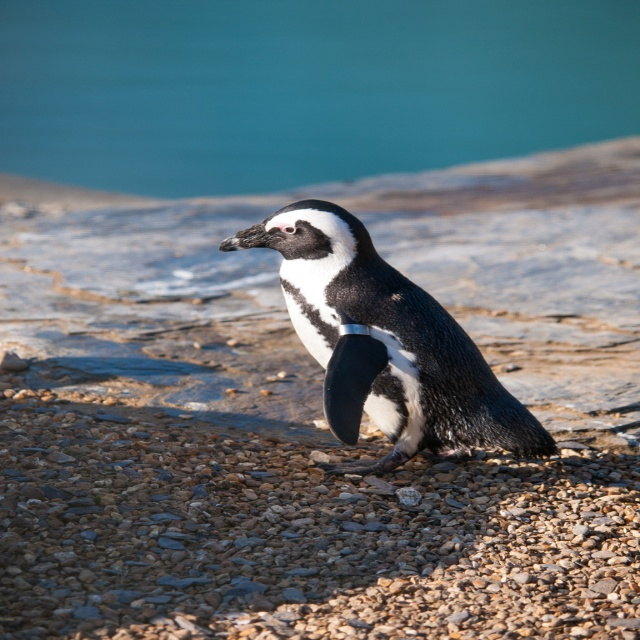Penguin: (204, 205, 550, 471)
